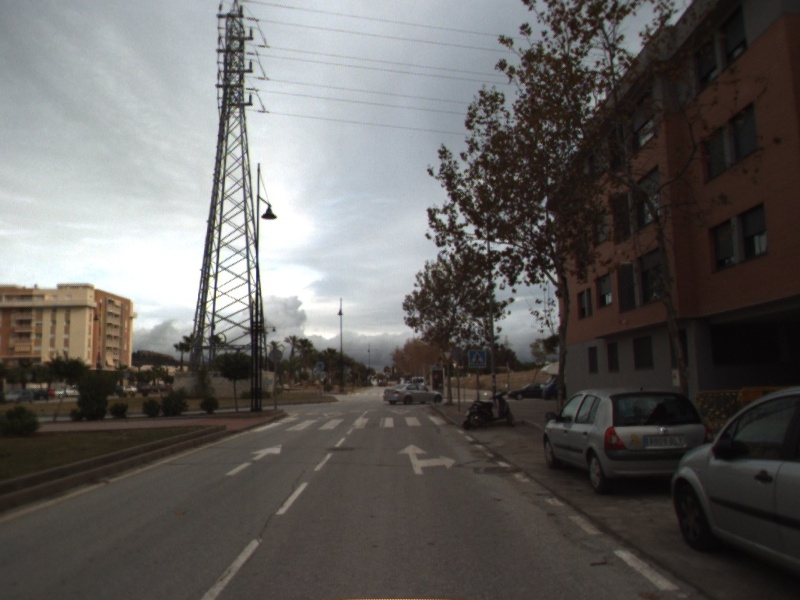STRAIGHT: (223, 442, 284, 478)
STRAIGHT_RIGHT: (395, 442, 458, 476)
